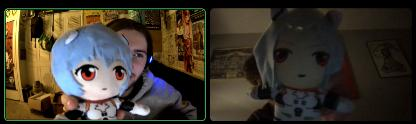rei-plush: (246, 0, 358, 122), (47, 24, 149, 122)
